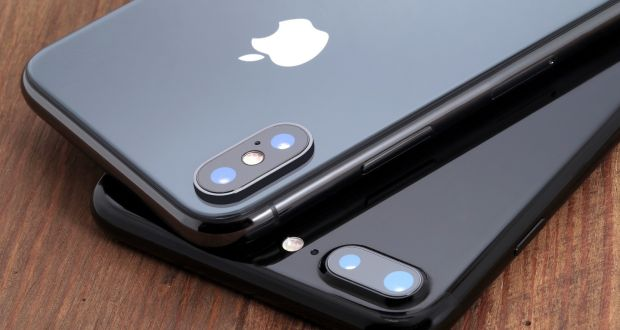apple: (235, 12, 333, 75)
